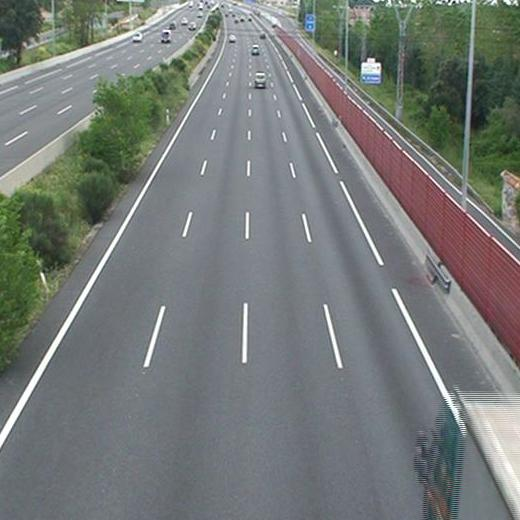car: (255, 71, 266, 87), (251, 46, 259, 56)
